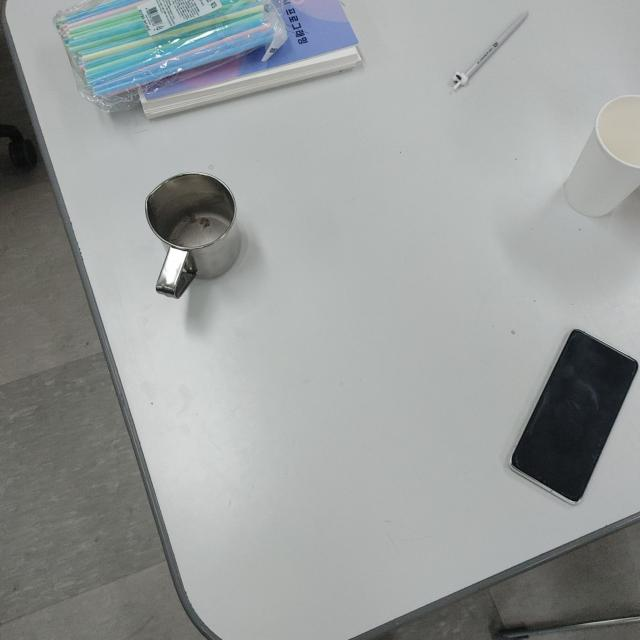cup: (145, 170, 242, 300)
phone: (507, 327, 638, 505)
